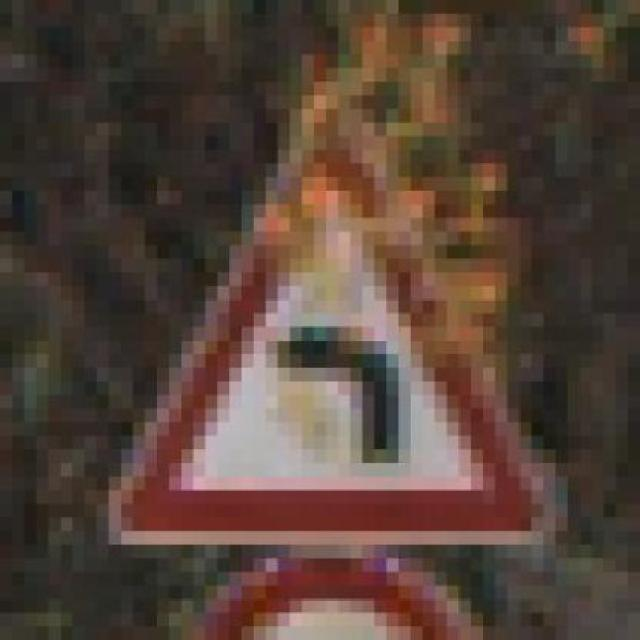Dangerous Left Curve Ahead: (109, 110, 568, 572)
